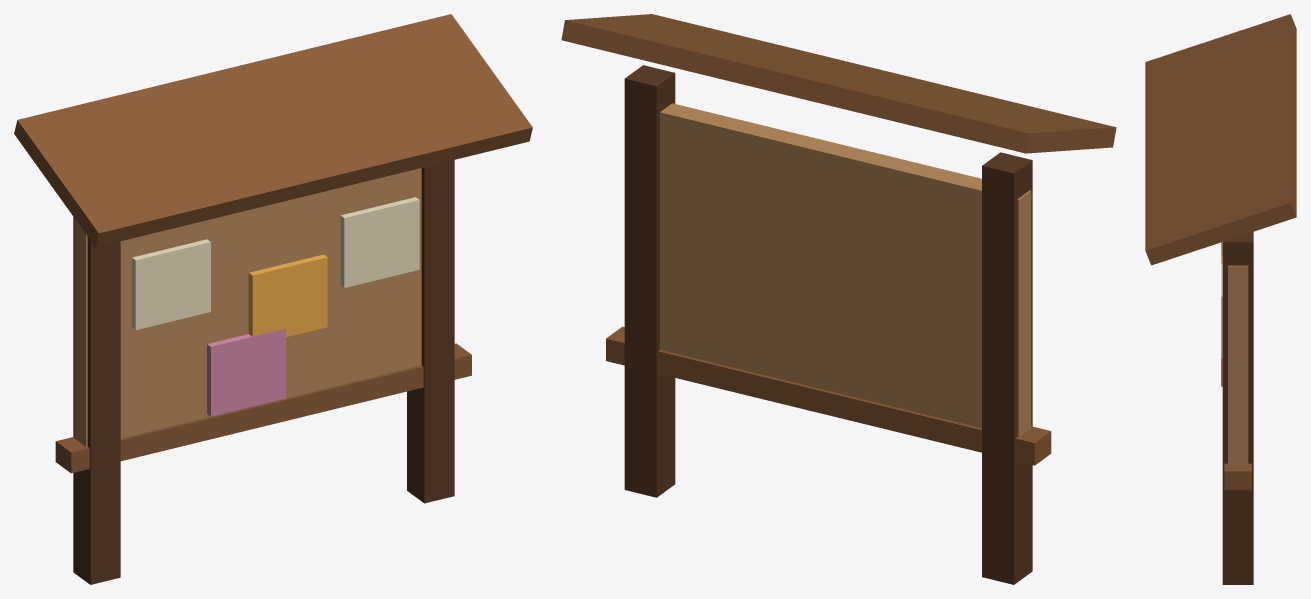
The model's file is prop_questboard.glb.
The picture shows the model from 3 angles, left to right: view 1: azimuth 30°, elevation 25°; view 2: azimuth 150°, elevation 25°; view 3: azimuth 270°, elevation 25°; orthographic projection. The views are drawn at different scales.
Parts seen in each view (by area): view 1: prop_questboard; view 2: prop_questboard; view 3: prop_questboard.
Boxes of the visible parts, box(x1,y1,x2,y2) form: prop_questboard: box(14, 14, 532, 584); prop_questboard: box(561, 14, 1116, 584); prop_questboard: box(1145, 14, 1296, 584).
Size of the model in its own units: 2.6 by 2.55 by 0.8796.
1 material, 1 textured.
